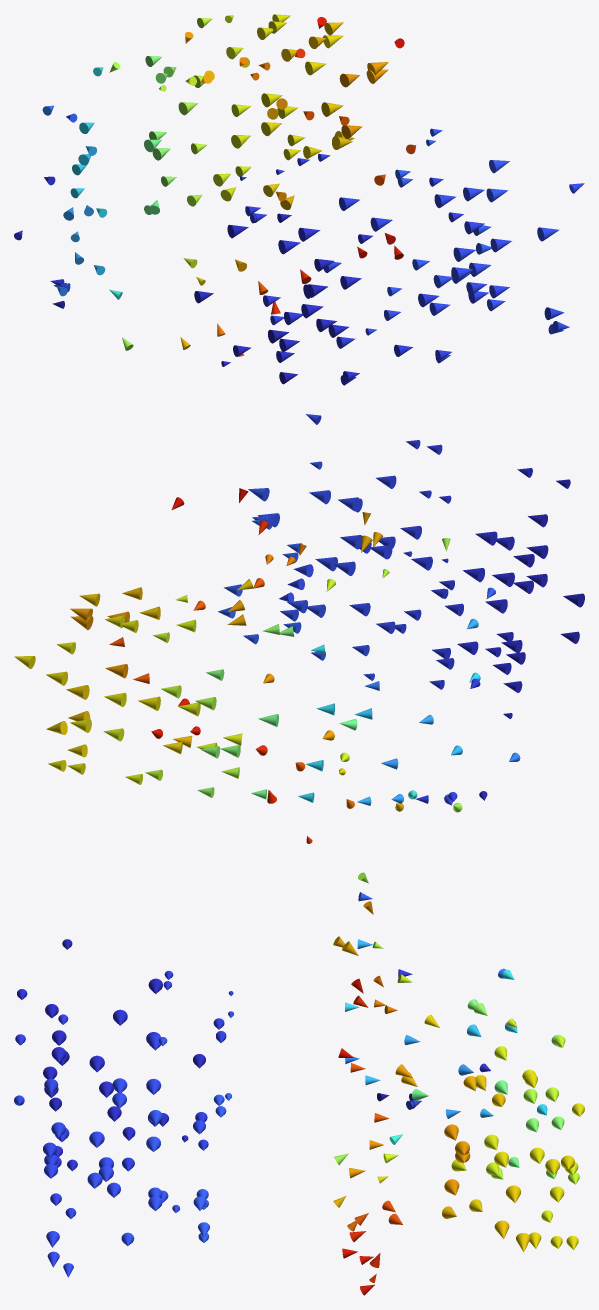
Rendered from LineasCorrienteN2-H2O_mh2-6.88_V-0.9.glb.
The picture shows the model from 3 angles, top to bottom: view 1: azimuth 30°, elevation 25°; view 2: azimuth 150°, elevation 25°; view 3: azimuth 270°, elevation 25°; orthographic projection. The views are drawn at different scales.
Size of the model in its own units: 0.000982 by 0.000811 by 0.00119.
Materials: 2 (2 with a texture image).
